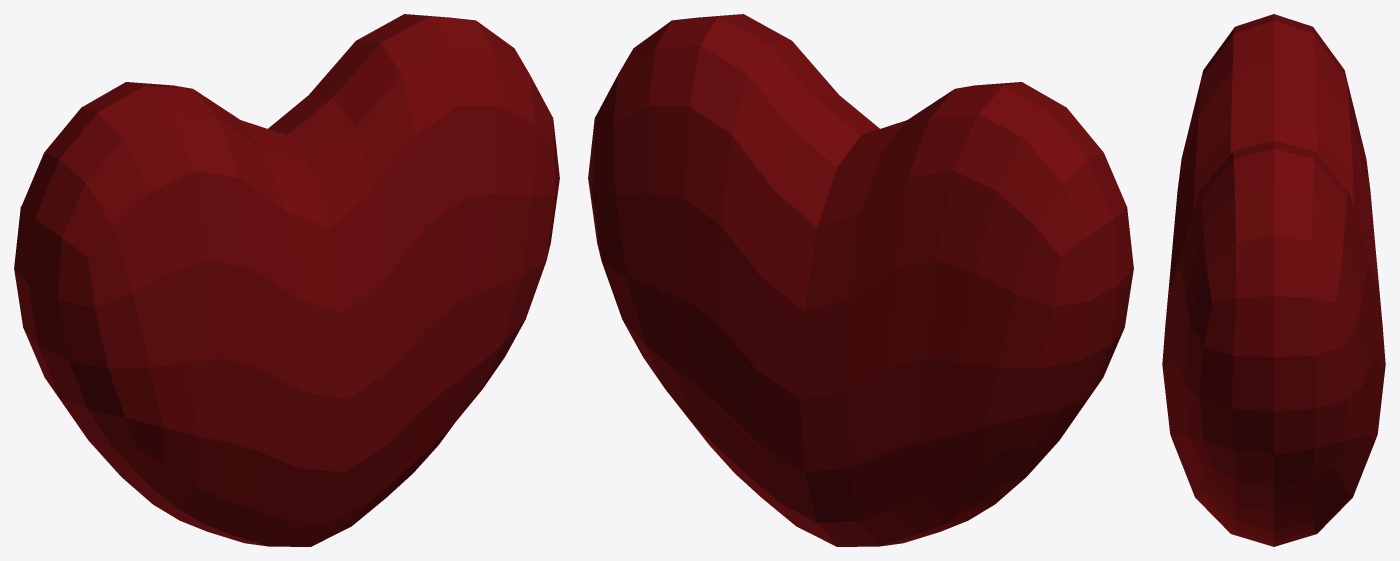
Rendered from Health.fbx.
The picture shows the model from 3 angles, left to right: view 1: azimuth 30°, elevation 25°; view 2: azimuth 150°, elevation 25°; view 3: azimuth 270°, elevation 25°; orthographic projection. The views are drawn at different scales.
Visible parts, largest first — view 1: Cube; view 2: Cube; view 3: Cube.
Boxes of the visible parts, x1=… form: Cube: x1=14, y1=14, x2=559, y2=546; Cube: x1=588, y1=14, x2=1133, y2=546; Cube: x1=1162, y1=14, x2=1385, y2=546.
Bounding box in the file's own units: 193 × 176 × 78.52.
